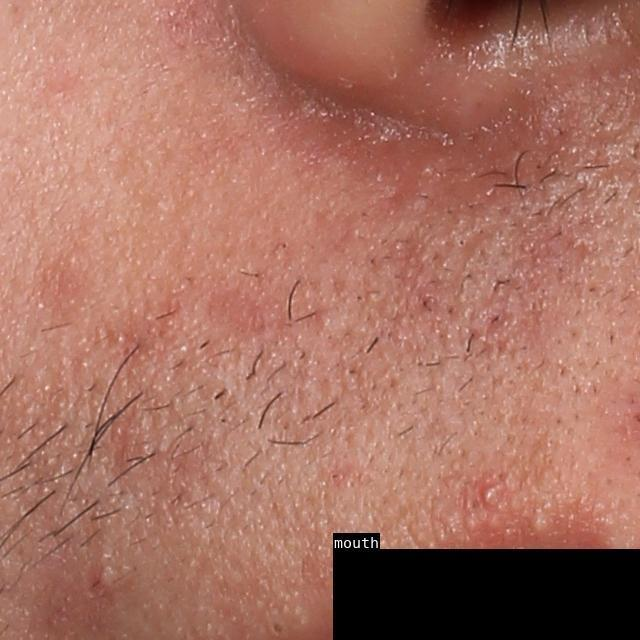comedo: (268, 618, 287, 640)
pustule: (477, 483, 500, 510)
